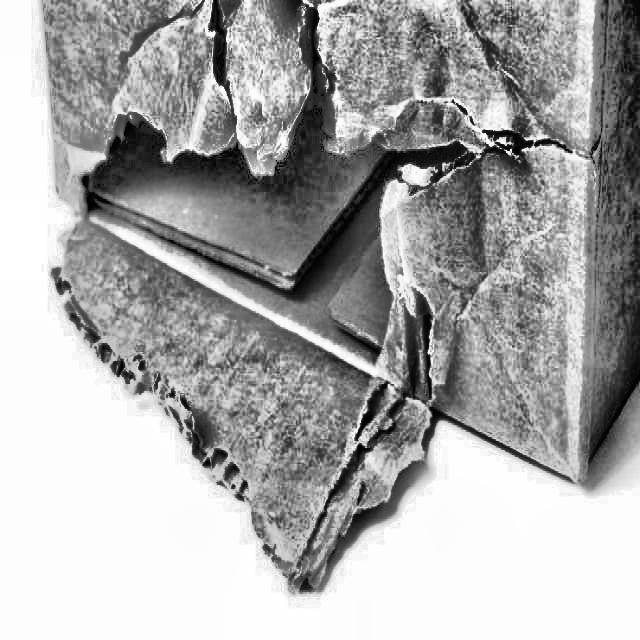box: (33, 0, 639, 612)
hole: (85, 3, 559, 455)
